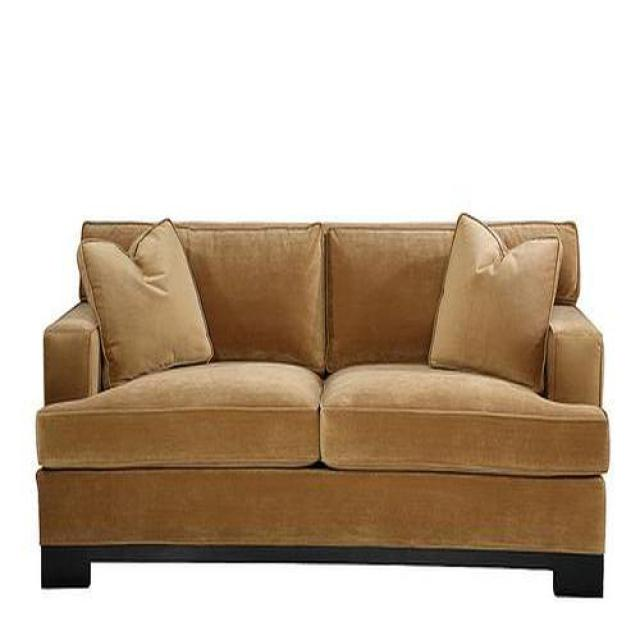sofa: (36, 219, 609, 598)
